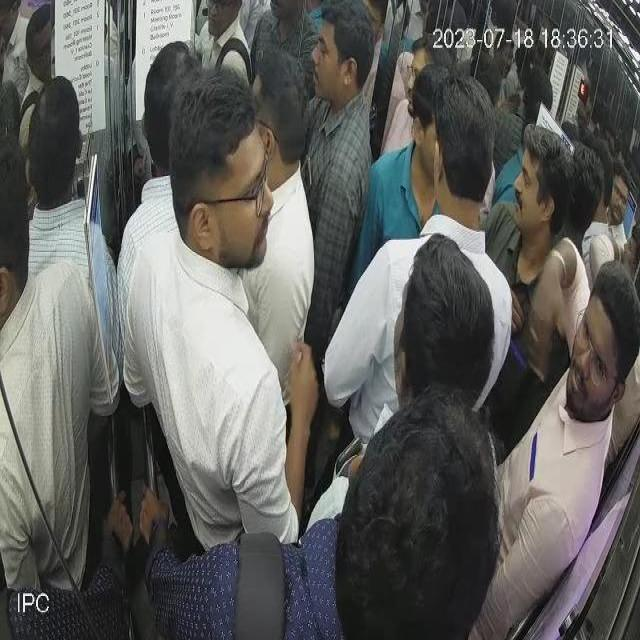person: (137, 369, 501, 636), (504, 213, 639, 636), (0, 133, 110, 640), (154, 85, 271, 551), (19, 48, 121, 365), (304, 12, 383, 391), (133, 45, 224, 276), (514, 75, 574, 400), (371, 46, 459, 258), (257, 39, 313, 360), (399, 235, 510, 381)
